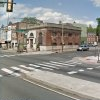crosswalk: (0, 61, 74, 77)
